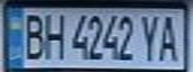2: (84, 11, 106, 61), (118, 11, 139, 62)
4: (66, 11, 87, 61), (103, 12, 121, 61)
A: (154, 11, 181, 63)
B: (18, 10, 48, 61)
H: (39, 10, 69, 61)
Y: (136, 11, 163, 62)
